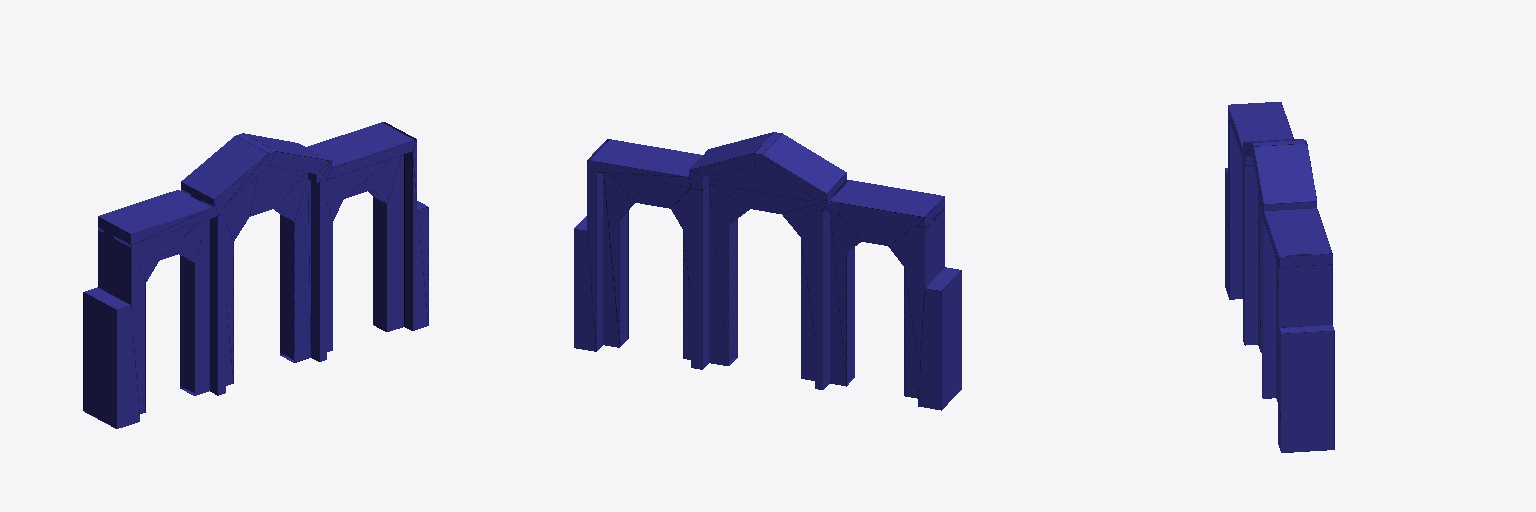
The picture shows the model from 3 angles: view 1: azimuth 30°, elevation 25°; view 2: azimuth 150°, elevation 25°; view 3: azimuth 270°, elevation 25°; orthographic projection.
Visible parts, largest first — view 1: 3d-model; view 2: 3d-model; view 3: 3d-model.
Boxes of the visible parts, box(x1,y1,x2,y2) form: 3d-model: box(83, 122, 428, 428); 3d-model: box(574, 132, 961, 410); 3d-model: box(1225, 102, 1334, 452).
Bounding box in the file's own units: 974 × 606 × 267.
Materials: 1 (1 with a texture image).